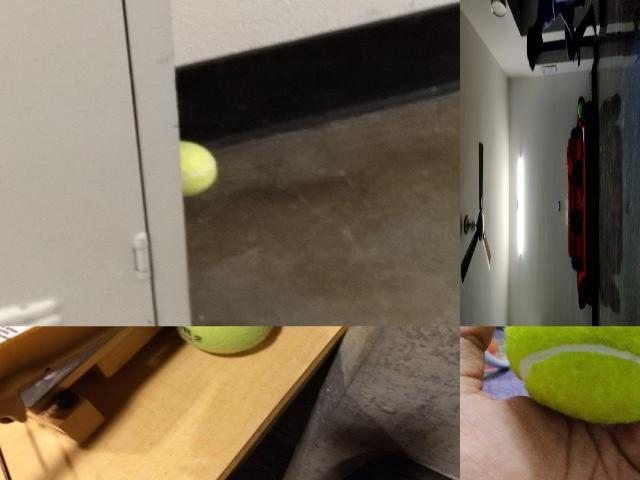tennis-ball: (502, 326, 639, 428), (171, 327, 277, 356), (184, 140, 218, 196)
